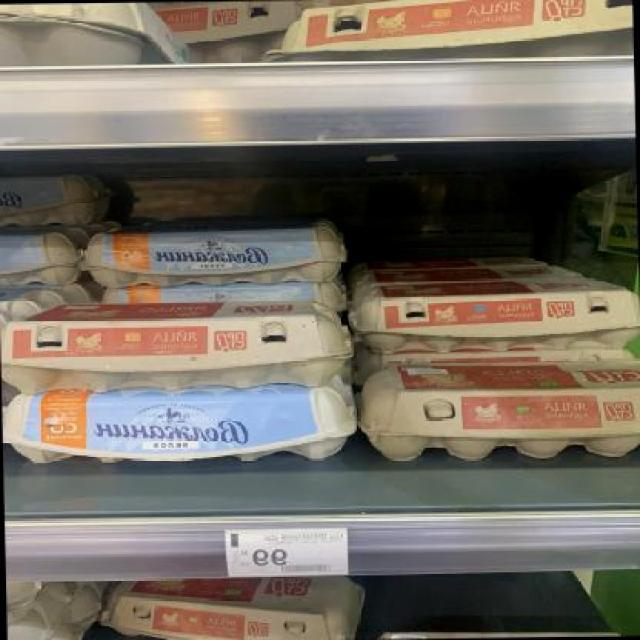egg: (0, 296, 354, 389), (356, 358, 639, 462), (348, 274, 640, 357)
